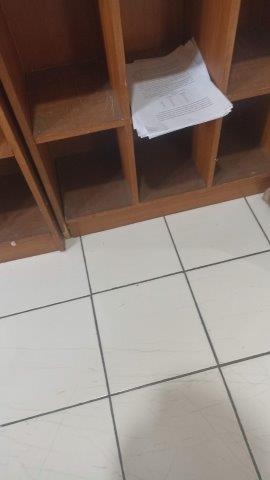kertas: (120, 43, 239, 138)
